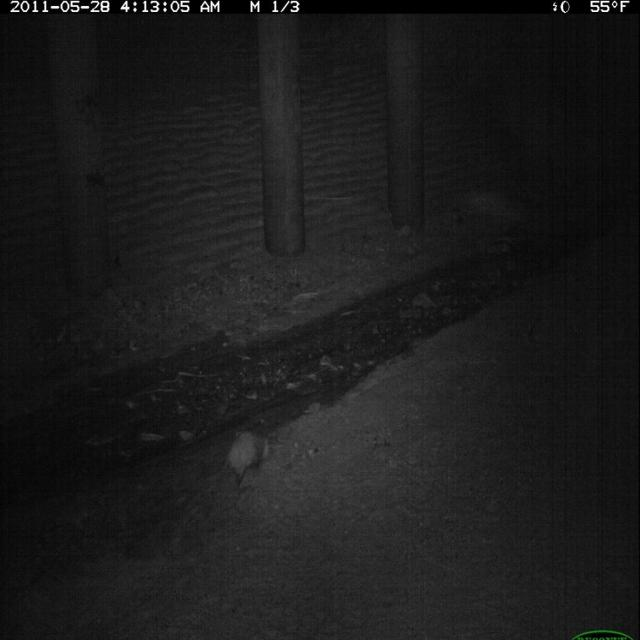opossum: (206, 425, 278, 499)
